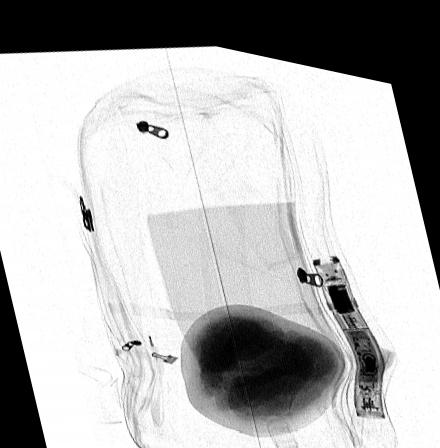Baton: (311, 238, 385, 399)
